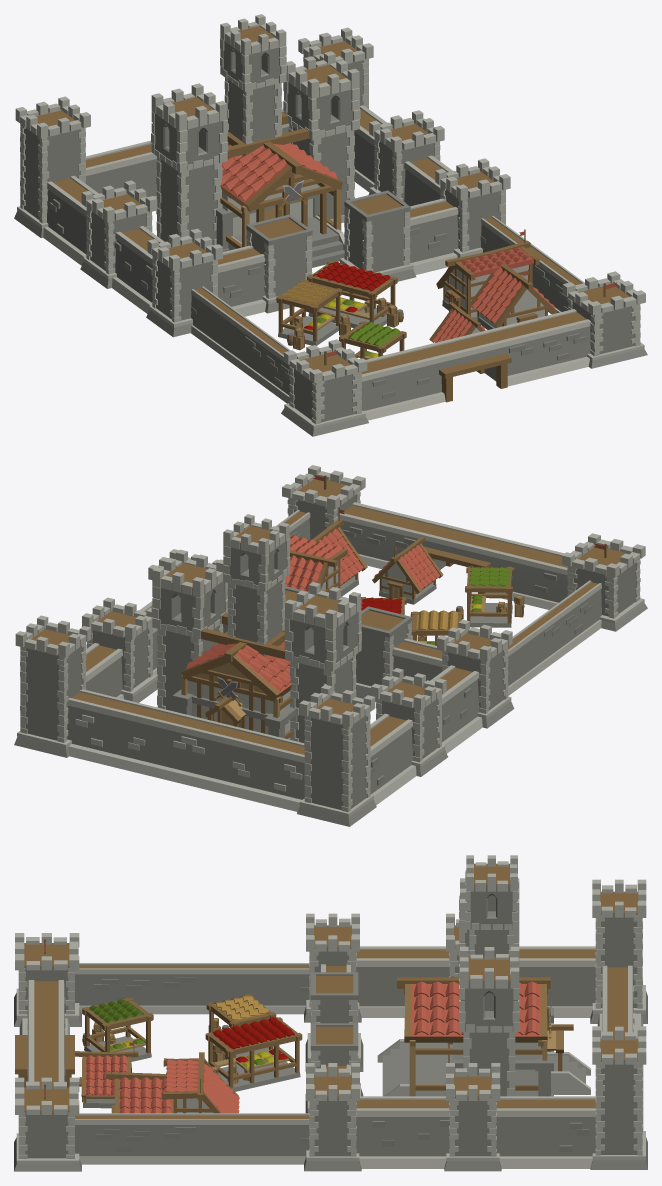
File: civ-MC-III.glb
3 renders of one model, top to bottom at view 1: azimuth 30°, elevation 25°; view 2: azimuth 150°, elevation 25°; view 3: azimuth 270°, elevation 25°, orthographic. The views are drawn at different scales.
Parts seen in each view (by area): view 1: WonderWalls_SecondAge, Barracks_SecondAge_Level3, WallTowers_Door_SecondAge.001, Market_SecondAge_Level2, Houses_SecondAge_2_Level3, Wall_SecondAge.001, Wall_SecondAge; view 2: WonderWalls_SecondAge, Barracks_SecondAge_Level3, WallTowers_Door_SecondAge.001, Houses_SecondAge_2_Level3, Wall_SecondAge.001, Market_SecondAge_Level2, Wall_SecondAge; view 3: WonderWalls_SecondAge, Barracks_SecondAge_Level3, WallTowers_Door_SecondAge.001, Wall_SecondAge, Wall_SecondAge.001, Market_SecondAge_Level2, Houses_SecondAge_2_Level3.
Boxes of the visible parts, bbox=[...] form: WonderWalls_SecondAge: bbox=[14, 27, 510, 337]; Barracks_SecondAge_Level3: bbox=[151, 14, 360, 267]; WallTowers_Door_SecondAge.001: bbox=[281, 271, 647, 436]; Market_SecondAge_Level2: bbox=[276, 260, 406, 359]; Houses_SecondAge_2_Level3: bbox=[429, 229, 557, 342]; Wall_SecondAge.001: bbox=[191, 286, 290, 403]; Wall_SecondAge: bbox=[480, 216, 584, 314]; WonderWalls_SecondAge: bbox=[14, 549, 514, 826]; Barracks_SecondAge_Level3: bbox=[151, 514, 361, 742]; WallTowers_Door_SecondAge.001: bbox=[282, 465, 647, 631]; Houses_SecondAge_2_Level3: bbox=[285, 507, 443, 604]; Wall_SecondAge.001: bbox=[508, 580, 601, 695]; Market_SecondAge_Level2: bbox=[361, 566, 524, 645]; Wall_SecondAge: bbox=[275, 510, 310, 541]; WonderWalls_SecondAge: bbox=[304, 879, 647, 1171]; Barracks_SecondAge_Level3: bbox=[377, 855, 590, 1096]; WallTowers_Door_SecondAge.001: bbox=[14, 933, 81, 1171]; Wall_SecondAge: bbox=[75, 1113, 309, 1164]; Wall_SecondAge.001: bbox=[75, 963, 309, 1014]; Market_SecondAge_Level2: bbox=[82, 994, 302, 1091]; Houses_SecondAge_2_Level3: bbox=[75, 1041, 239, 1113].
Bounding box in the file's own units: 4.84 × 2.85 × 7.36.
